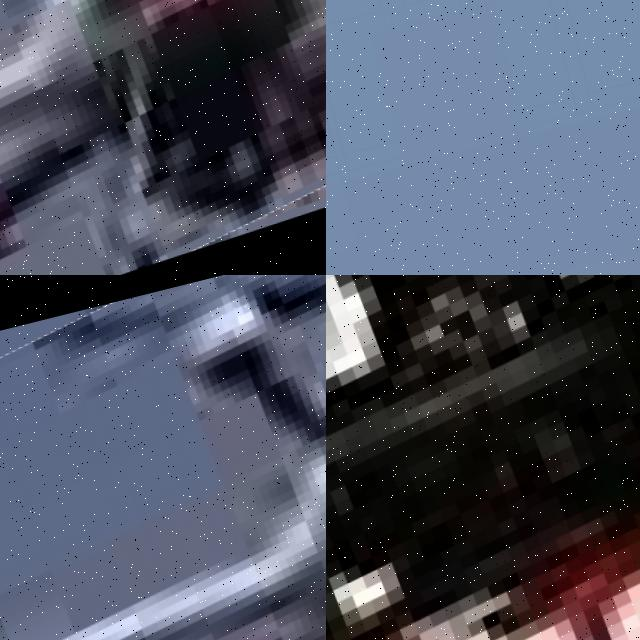drone: (0, 275, 326, 640), (326, 275, 640, 640), (0, 0, 326, 275)
